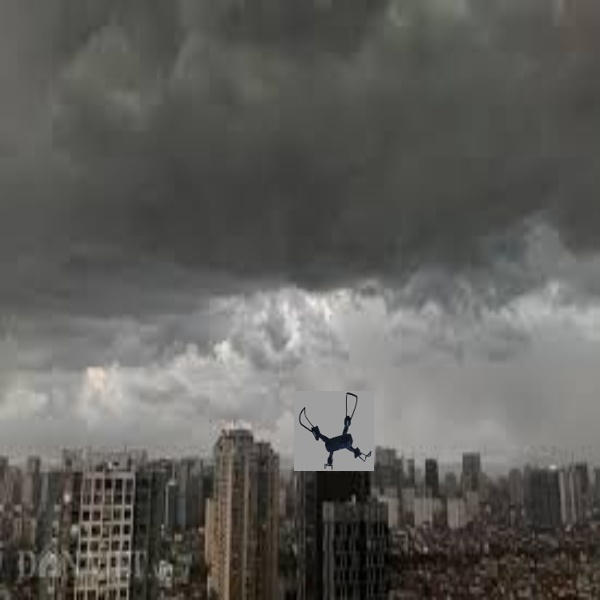drone: (294, 385, 374, 471)
